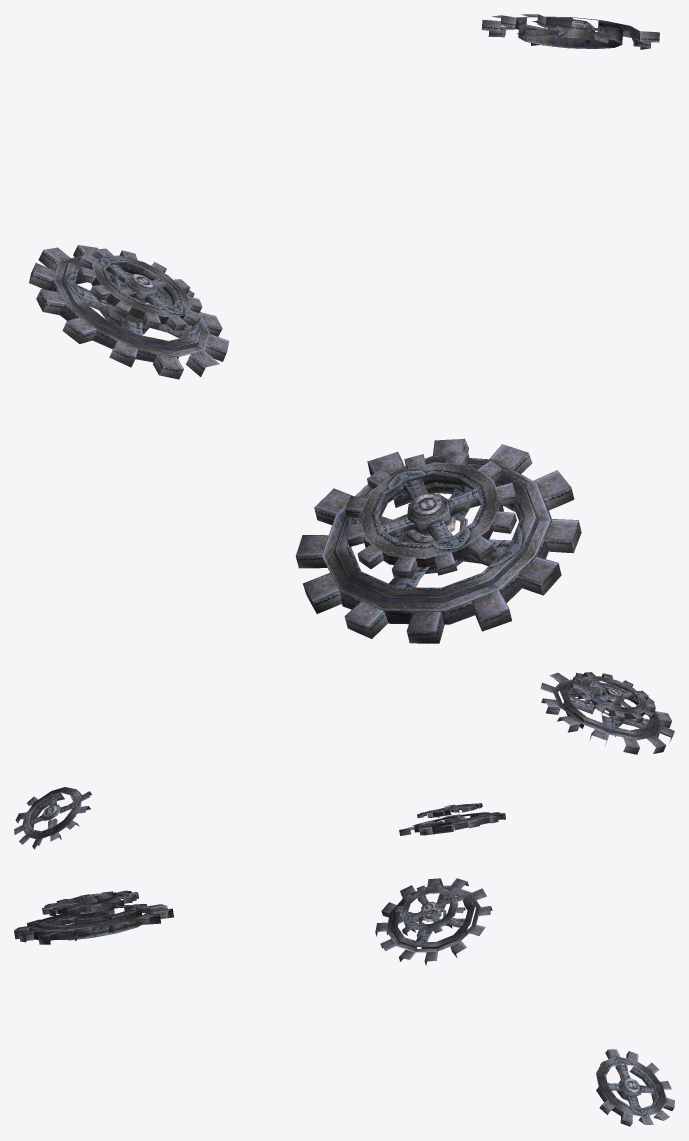
Rendered from S_Build_West001_A.FBX.
3 views of the same model, one above another, from view 1: azimuth 30°, elevation 25°; view 2: azimuth 150°, elevation 25°; view 3: azimuth 270°, elevation 25° (orthographic). The views are drawn at different scales.
Parts seen in each view (by area): view 1: S_Build_West001_001, S_Build_West001_002, S_Build_West001_003; view 2: S_Build_West001_001, S_Build_West001_003, S_Build_West001_002; view 3: S_Build_West001_002, S_Build_West001_001, S_Build_West001_003.
Part boxes in pixels (bbox=[...]): S_Build_West001_001: bbox=[295, 438, 581, 643]; S_Build_West001_002: bbox=[29, 245, 229, 379]; S_Build_West001_003: bbox=[481, 14, 659, 49]; S_Build_West001_001: bbox=[540, 672, 674, 754]; S_Build_West001_003: bbox=[14, 787, 91, 849]; S_Build_West001_002: bbox=[399, 803, 505, 835]; S_Build_West001_002: bbox=[375, 878, 492, 965]; S_Build_West001_001: bbox=[14, 890, 173, 944]; S_Build_West001_003: bbox=[596, 1049, 674, 1126].
Bounding box in the file's own units: 1901 × 249 × 2421.
